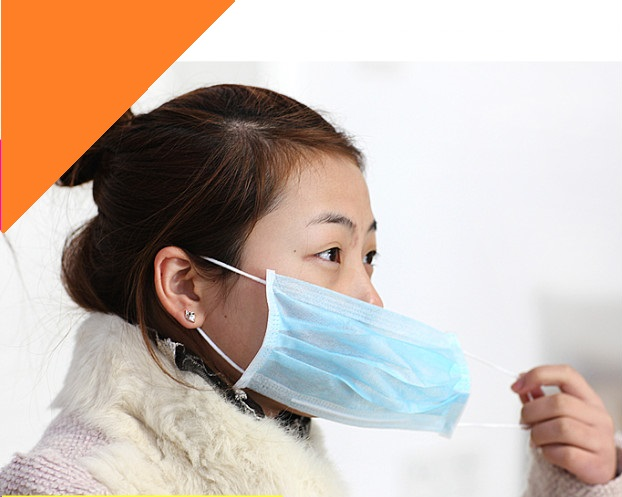face_mask: (226, 156, 386, 406)
